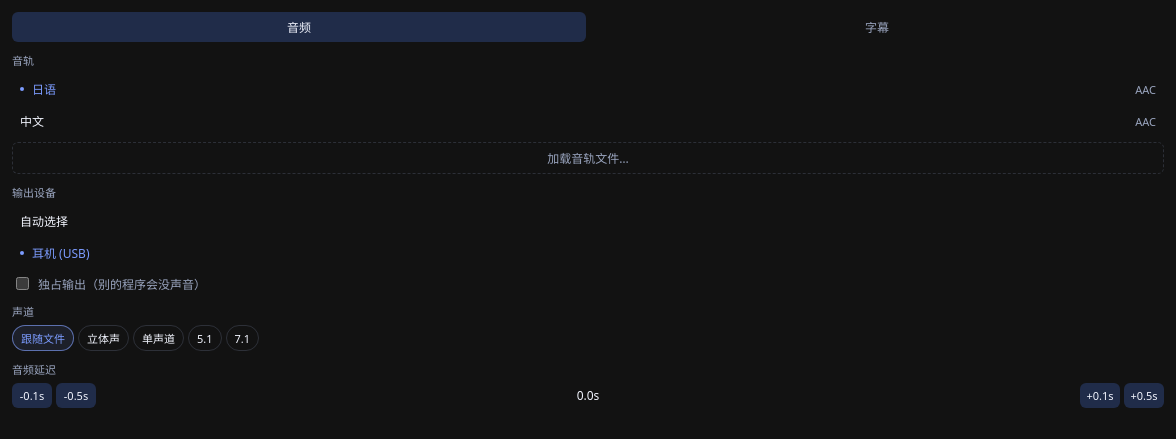
字幕页 › 列出字幕轨，并给一个「关闭字幕」的选项
Click the tab "字幕": coordinates (877, 27) [590,12,1164,42]
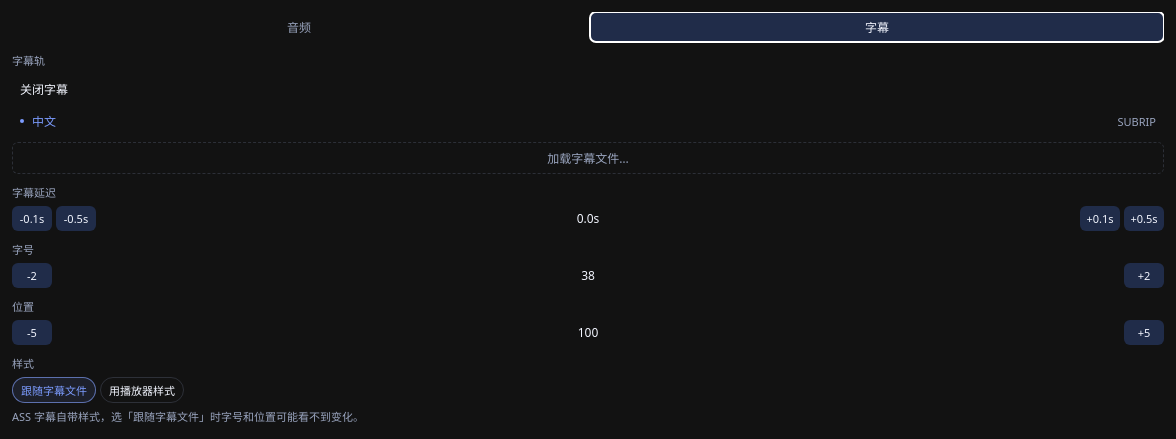
Expected: the number of menu items is 2, [12,74,1164,104]; [12,106,1164,136]
Expected: the menu item "关闭字幕" is shown, [12,74,1164,104]
Expected: the menu item "中文 SUBRIP" is shown, [12,106,1164,136]
